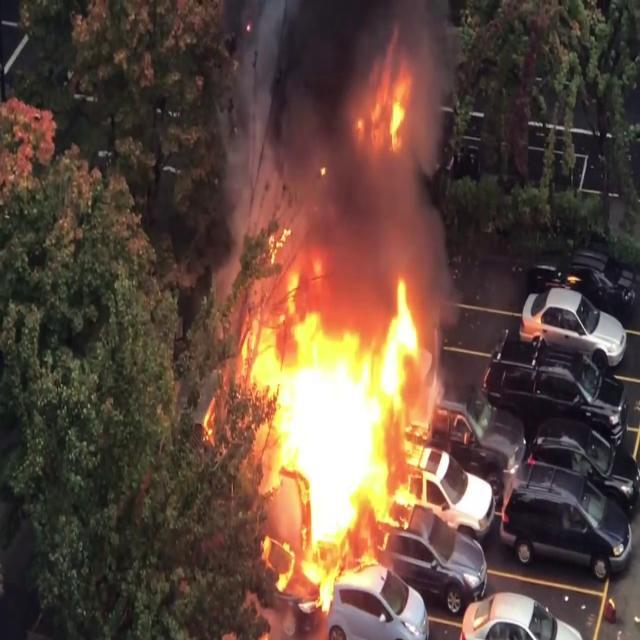Fire: (233, 184, 464, 597)
Smoke: (232, 0, 464, 292)
